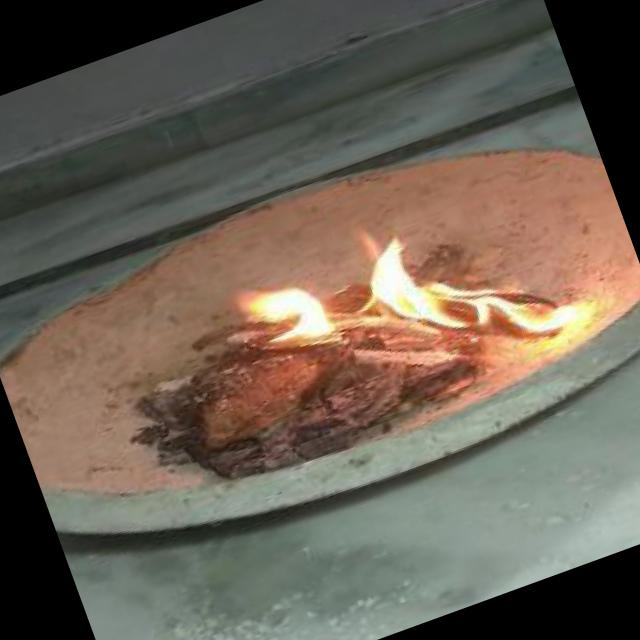fire: (220, 158, 603, 452)
